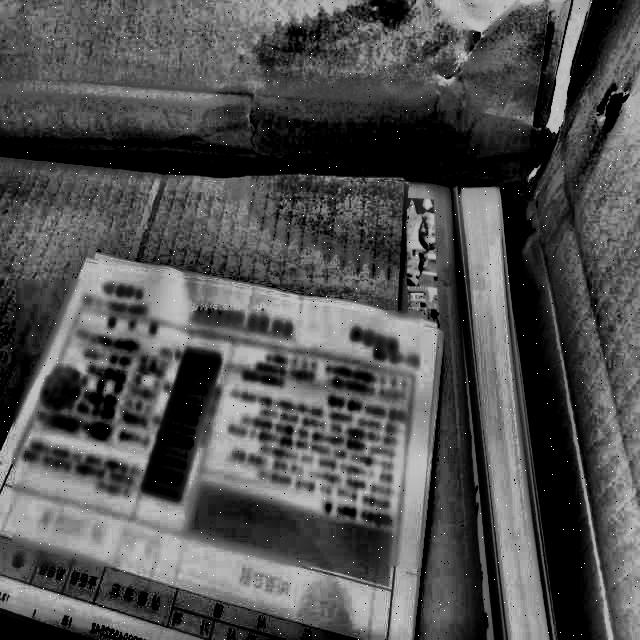box: (1, 0, 640, 639)
wet: (224, 177, 402, 285)
